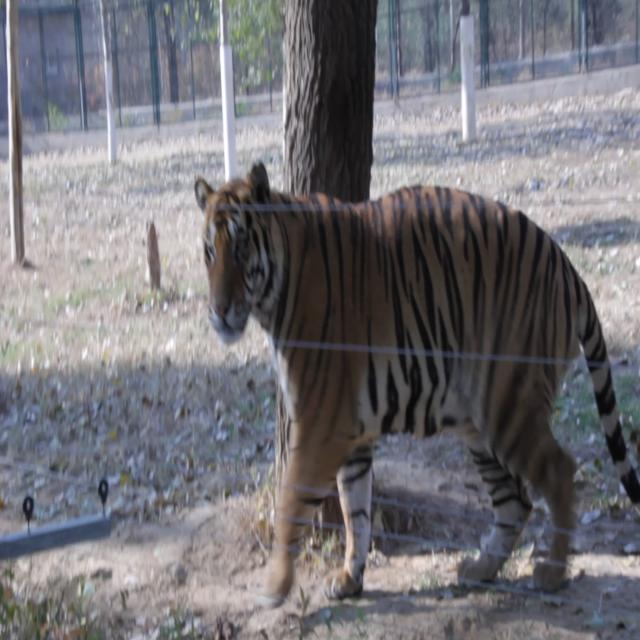Tiger: (179, 136, 640, 611)
